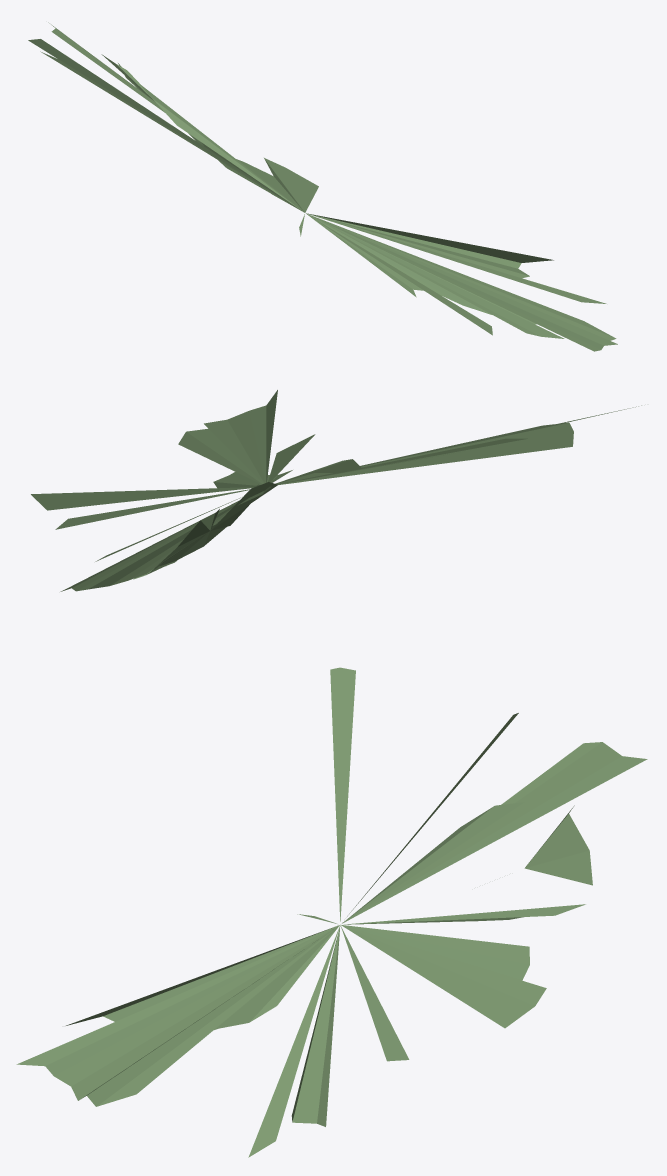
The model's file is c_1664_17815_parks.glb.
The picture shows the model from 3 angles, top to bottom: view 1: azimuth 30°, elevation 25°; view 2: azimuth 150°, elevation 25°; view 3: azimuth 270°, elevation 25°; orthographic projection. The views are drawn at different scales.
Parts seen in each view (by area): view 1: geometry_0; view 2: geometry_0; view 3: geometry_0.
Boxes of the visible parts, x1,y1,x2,y2 form: geometry_0: (28, 22, 617, 351); geometry_0: (31, 390, 641, 591); geometry_0: (16, 667, 647, 1157).
Bounding box in the file's own units: 486 × 190 × 454.
